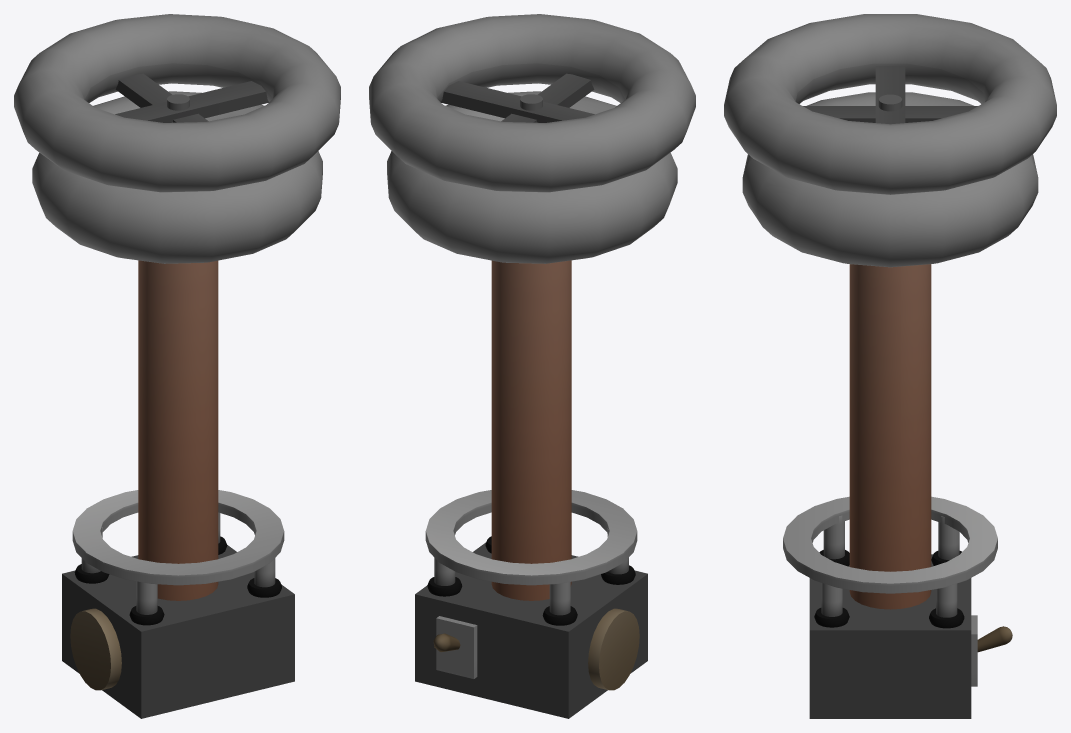
Rendered from OBJ_TeslaCoil.fbx.
3 renders of one model, left to right at view 1: azimuth 30°, elevation 25°; view 2: azimuth 150°, elevation 25°; view 3: azimuth 270°, elevation 25°, orthographic.
Visible parts, largest first — view 1: TeslaCoil; view 2: TeslaCoil; view 3: TeslaCoil.
Part boxes in pixels (x1,y1,x2,y2): TeslaCoil: (14,14,340,718); TeslaCoil: (369,14,695,718); TeslaCoil: (724,14,1056,718).
Size of the model in its own units: 112 by 227 by 113.
